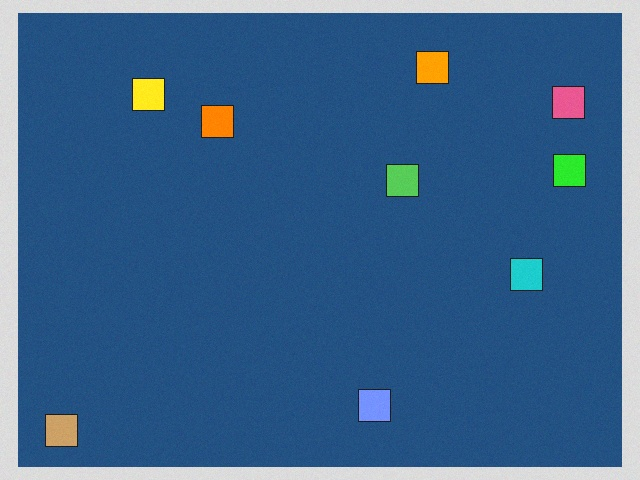block: (46, 405, 91, 447), (540, 86, 584, 125), (133, 79, 173, 118), (541, 155, 585, 190), (412, 51, 449, 92), (201, 105, 238, 143), (501, 257, 543, 290), (357, 381, 391, 421), (383, 165, 418, 199)
